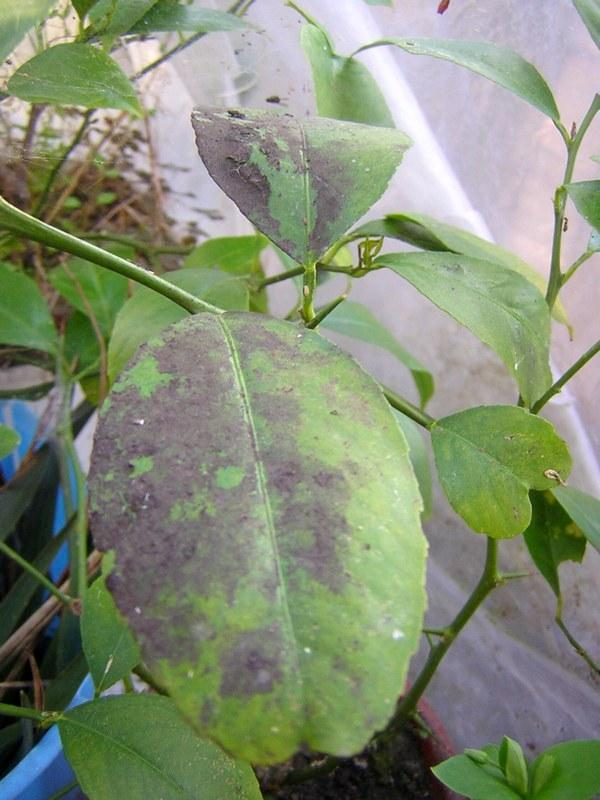soot dew: (95, 314, 350, 669), (197, 112, 346, 266), (218, 622, 282, 694)
